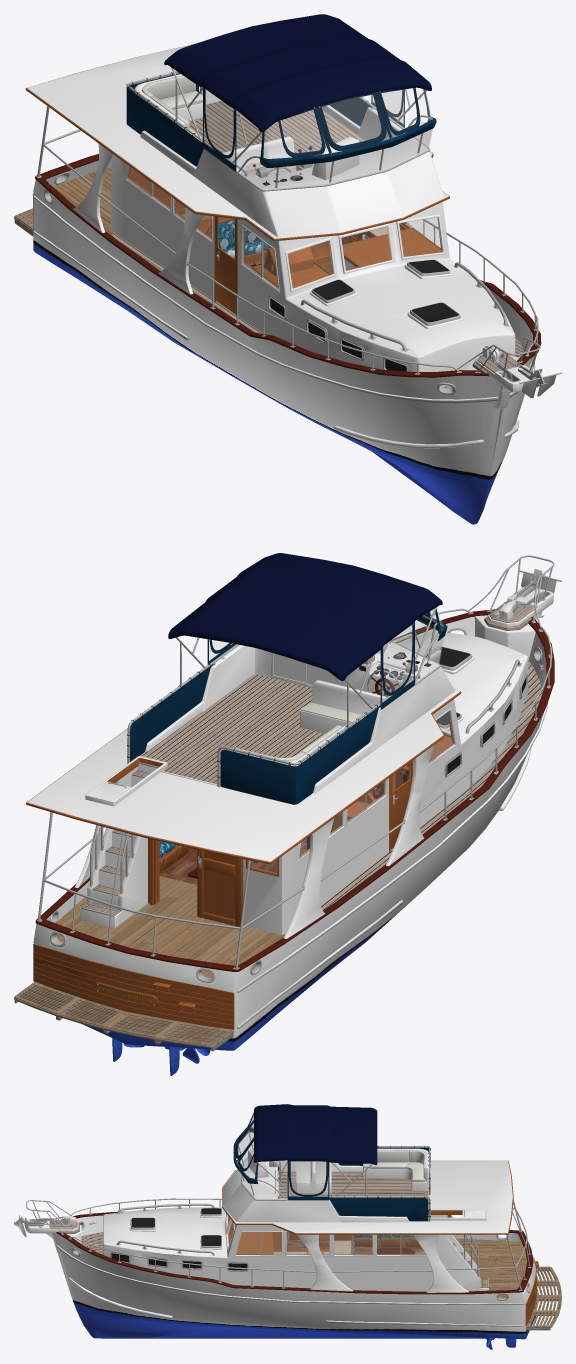
Rendered from diveboat_hd.glb.
3 renders of one model, top to bottom at view 1: azimuth 30°, elevation 25°; view 2: azimuth 150°, elevation 25°; view 3: azimuth 270°, elevation 25°, orthographic. The views are drawn at different scales.
Visible parts, largest first — view 1: diveboat_hd; view 2: diveboat_hd; view 3: diveboat_hd.
Boxes of the visible parts, x1=… form: diveboat_hd: x1=14, y1=14, x2=561, y2=524; diveboat_hd: x1=14, y1=553, x2=561, y2=1075; diveboat_hd: x1=14, y1=1104, x2=561, y2=1349.
Bounding box in the file's own units: 4.74 × 6.52 × 14.94.
Materials: 11 (8 with a texture image).
